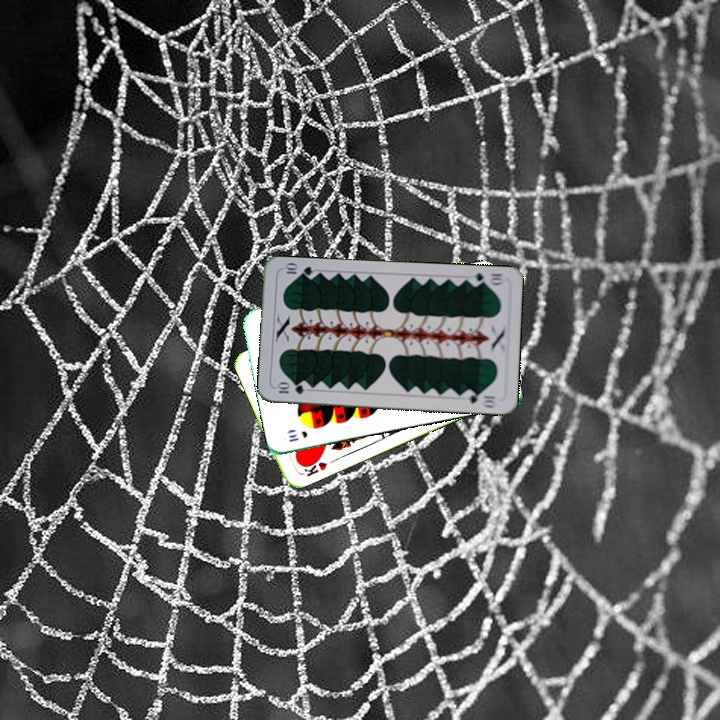G10: (466, 269, 507, 289), (272, 380, 307, 397)
HK: (296, 453, 330, 479)
S10: (284, 427, 310, 444)
